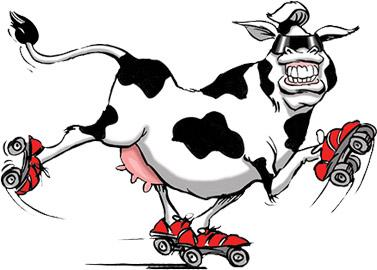cow: (18, 1, 358, 253)
